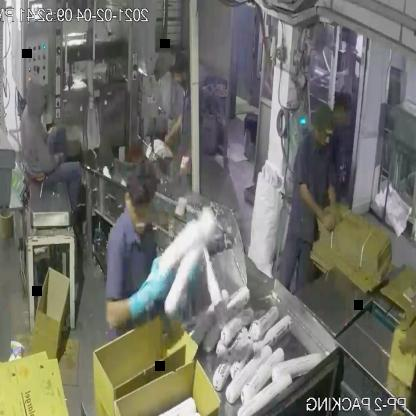glove: (124, 250, 176, 329)
no_glove: (294, 181, 337, 240), (395, 318, 416, 358), (326, 177, 342, 221)
